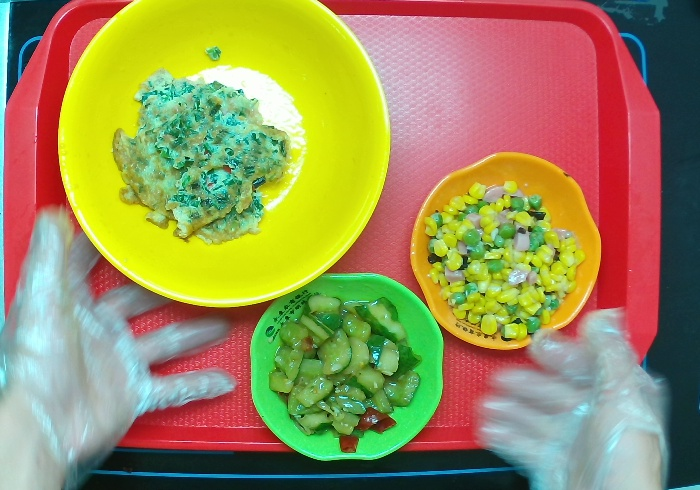YKMZ-Huang_Se_Tang_Wan: (44, 1, 402, 326)
YKMZ-Ju_Se_Ao_Bian_Wan: (408, 144, 620, 359)
YKMZ-Lv_Se_Ao_Bian_Wan: (244, 264, 451, 466)
